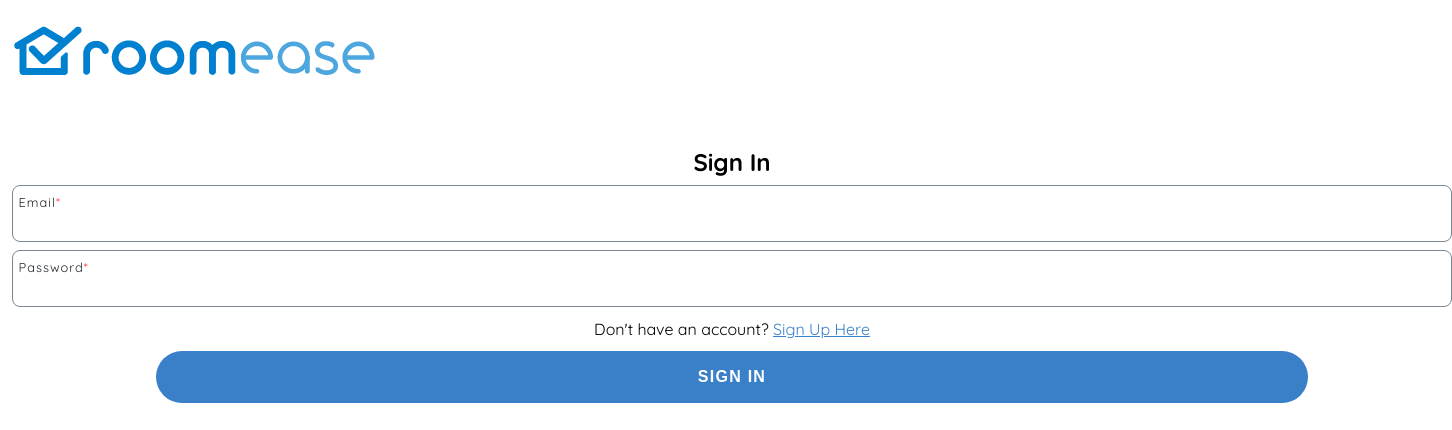
Sign In Server Validation › should display error after server validation fails
Type "mrkrabs@mrkrabs.com" into the field labelled "Email*".
click(732, 223); type("mrkrabs@mrkrabs.com")  # box top-left (17, 210), bottom-right (1447, 237)
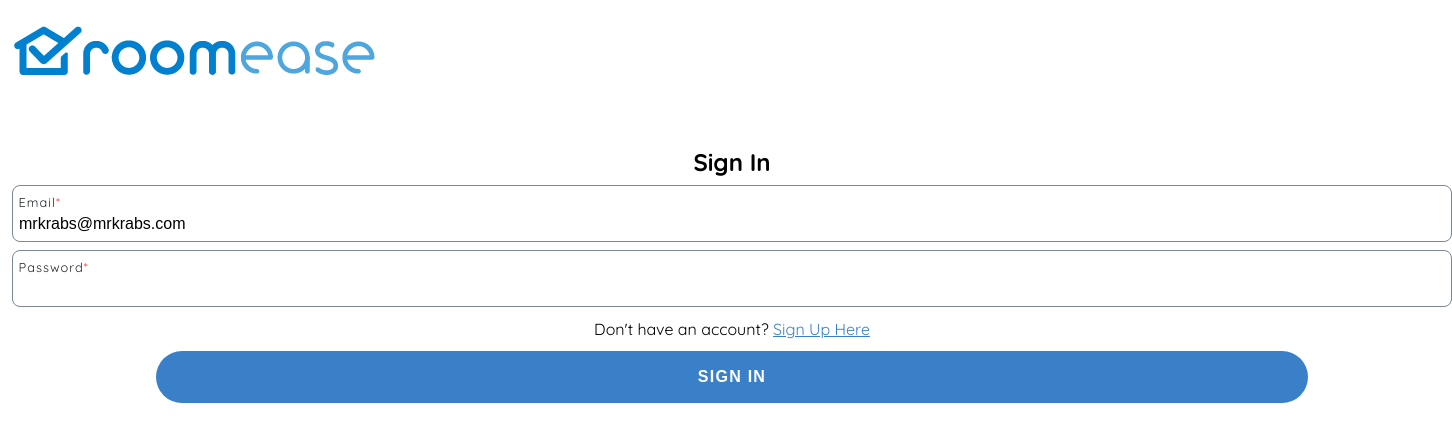
Type "password" into the password field labelled "Password*".
click(732, 288); type("password")  # box top-left (17, 275), bottom-right (1447, 302)
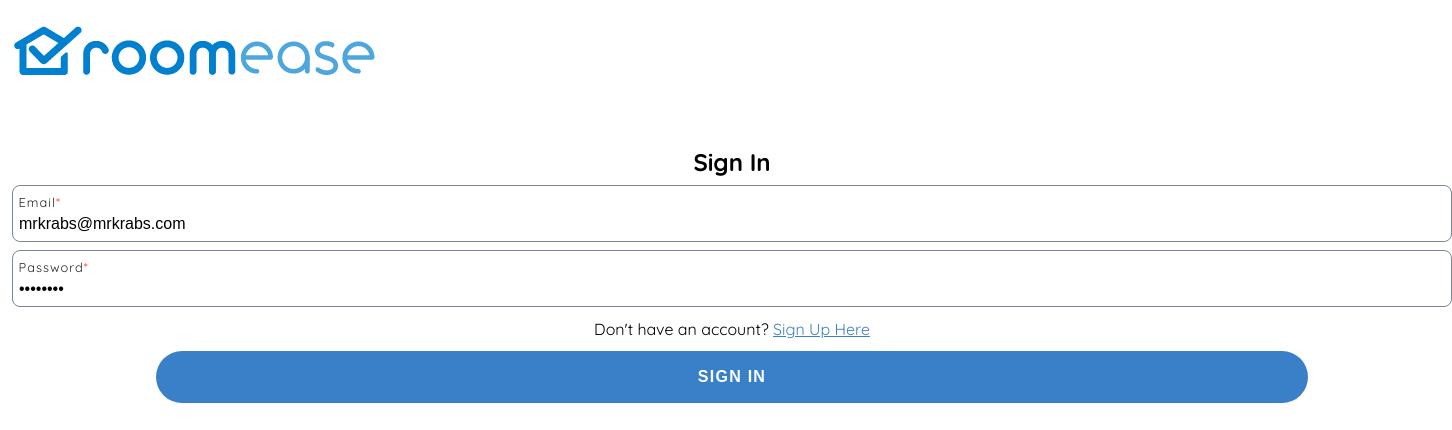
Submit the form from the button "SIGN IN", box top-left (156, 351), bottom-right (1308, 403)
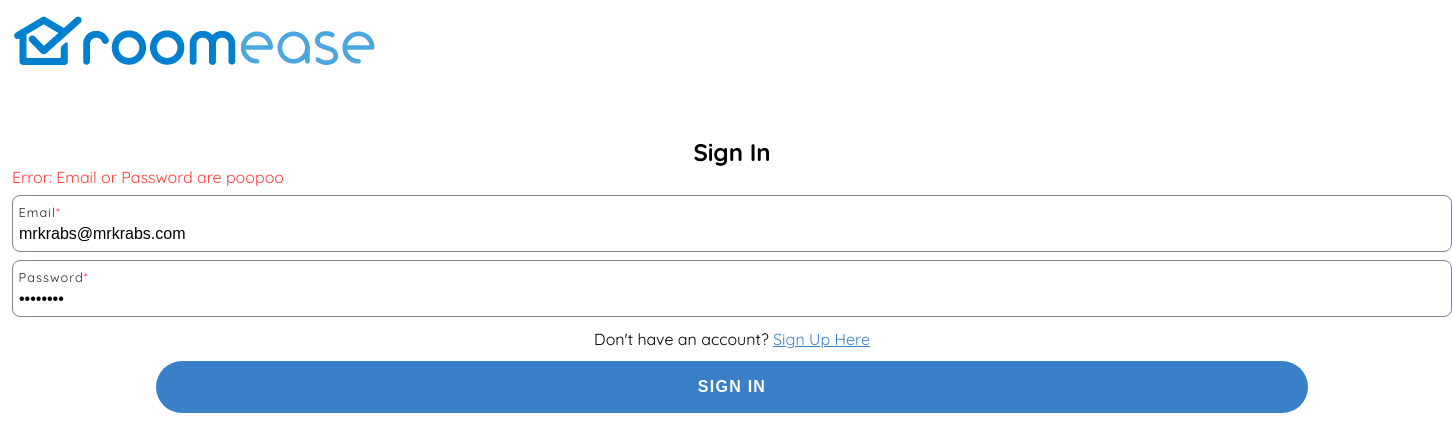
Check: the number of messages is 1, box top-left (12, 167), bottom-right (284, 187)
